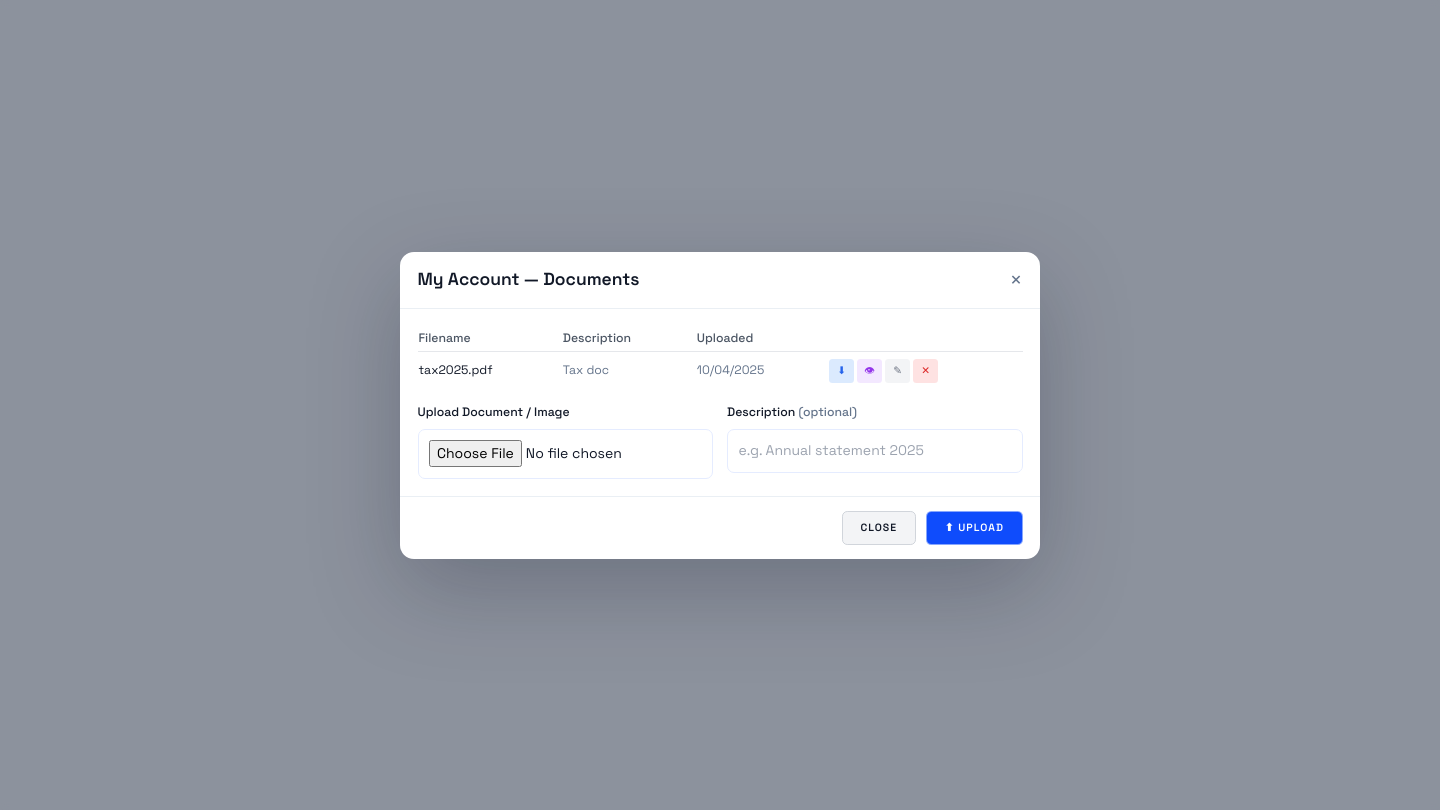
Scenario: AccountDocumentsModal › startEdit / saveDescription › shows edit input when edit button clicked
The image size is (1440, 810).
Click the button titled "Edit description": (898, 371) [885, 358, 910, 383]
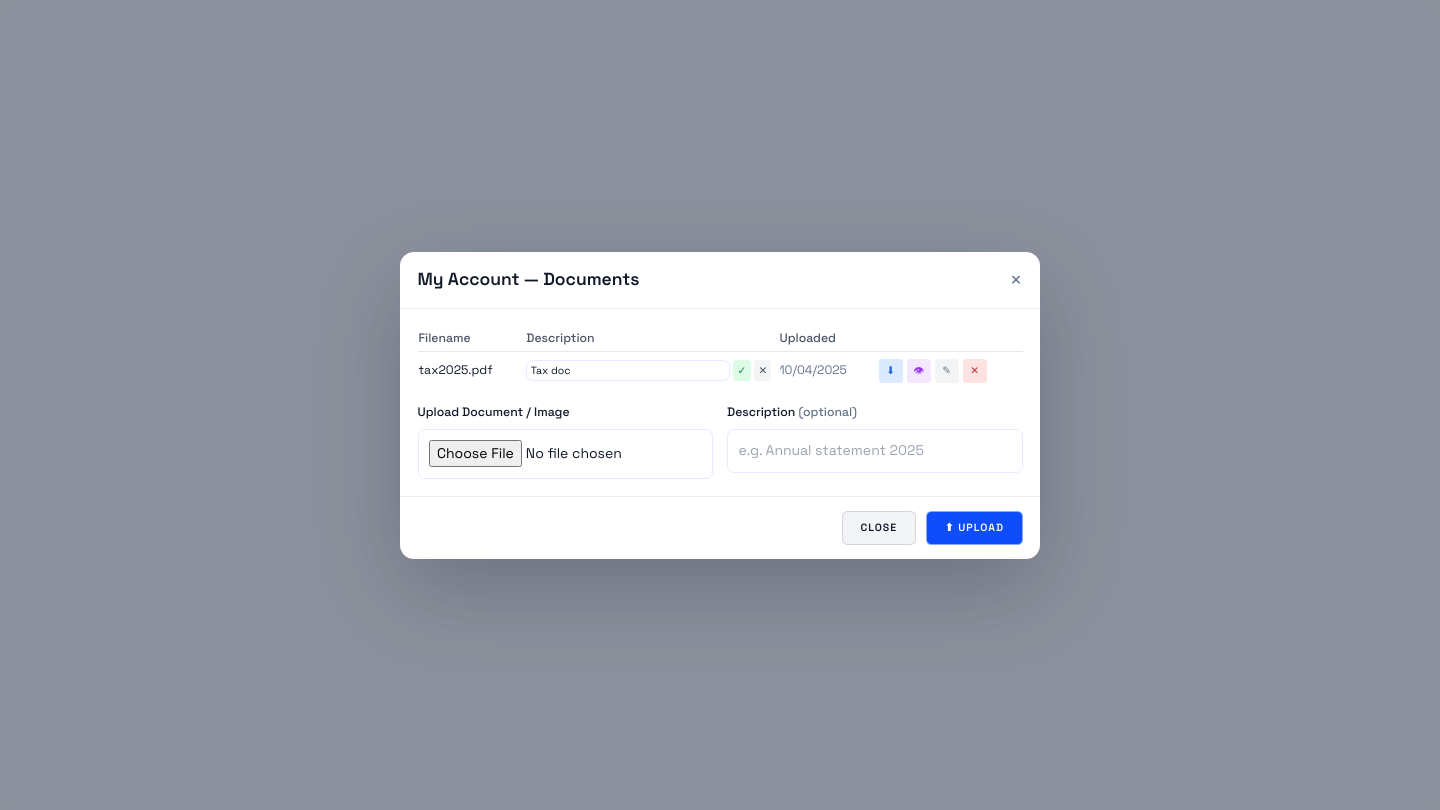
Result: the 1st field with class "form-input" is shown at [526, 360, 730, 381]
